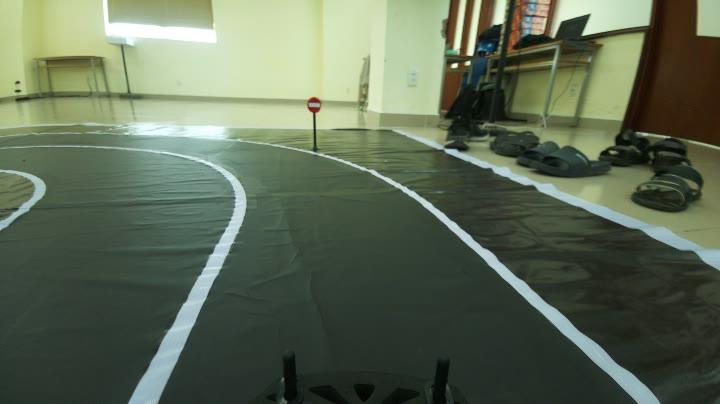no_entry: (300, 91, 324, 114)
